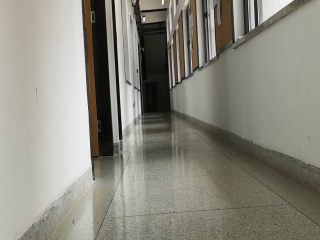room: (78, 2, 117, 169)
